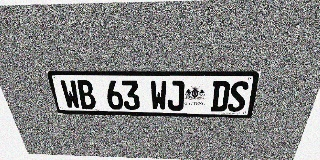3: (121, 80, 140, 110)
6: (104, 80, 124, 110)
B: (76, 80, 97, 109)
D: (210, 81, 231, 112)
J: (167, 81, 184, 111)
S: (227, 81, 249, 112)
W: (59, 80, 82, 109), (150, 81, 167, 110)
